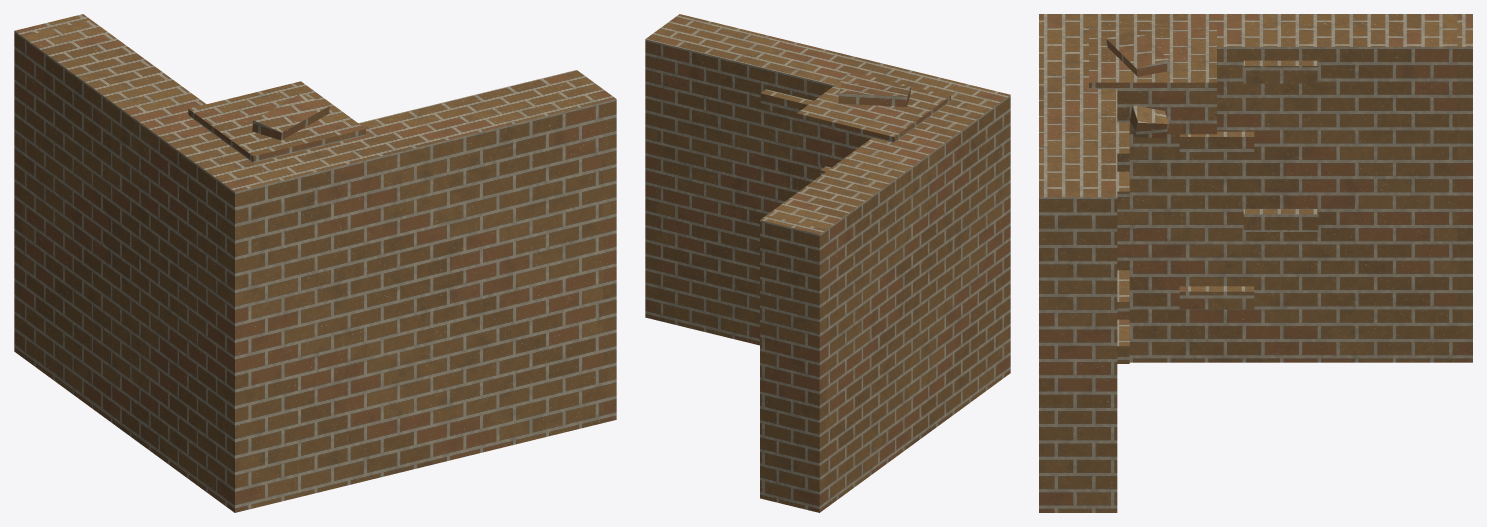
Rendered from prop_cover_masonry_corner.glb.
The picture shows the model from 3 angles, left to right: view 1: azimuth 30°, elevation 25°; view 2: azimuth 150°, elevation 25°; view 3: azimuth 270°, elevation 25°; orthographic projection. The views are drawn at different scales.
Visible parts, largest first — view 1: masonry_brick; view 2: masonry_brick; view 3: masonry_brick.
Boxes of the visible parts, x1,y1,x2,y2 form: masonry_brick: (14,14,616,512); masonry_brick: (645,14,1010,512); masonry_brick: (1039,14,1472,512).
Bounding box in the file's own units: 1.22 × 1.03 × 1.22.
Materials: 1 (1 with a texture image).
